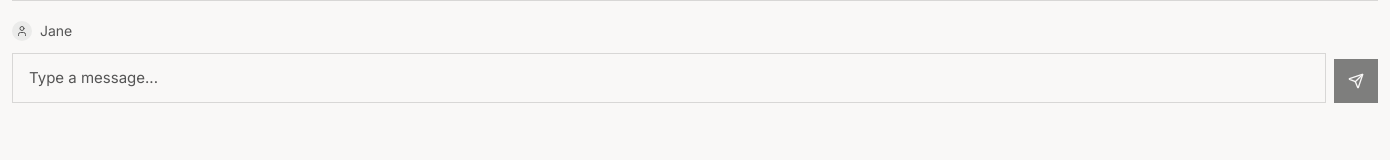
Test: room_comment › says a failed post failed, and takes the message away once the next one goes through
Type "the parser hangs on empty input" into the text box with placeholder "Type a message..." at coordinates (669, 78), box x1=12 y1=53 x2=1326 y2=103
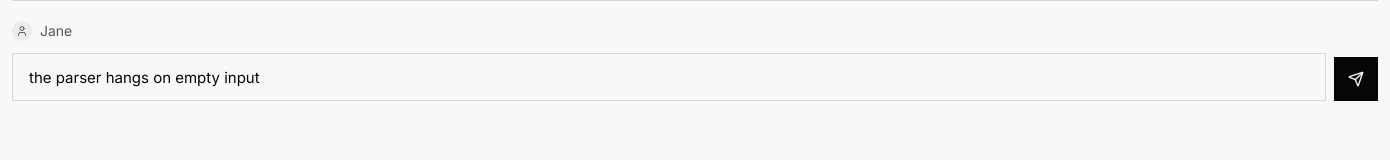
Submit the form with placeholder "Type a message...", box x1=12 y1=53 x2=1378 y2=101
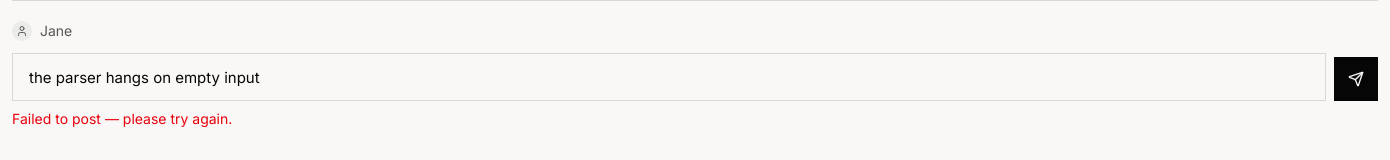
Now the message reads "Failed to post — please try again.", box x1=12 y1=110 x2=232 y2=127
Submit the form with placeholder "Type a message...", box x1=12 y1=53 x2=1378 y2=101
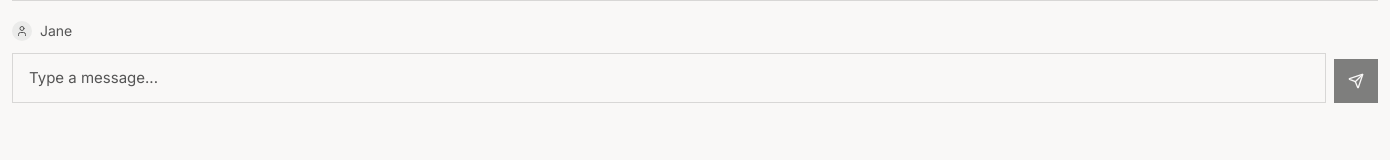
Now the message "Failed to post — please try again." is gone
